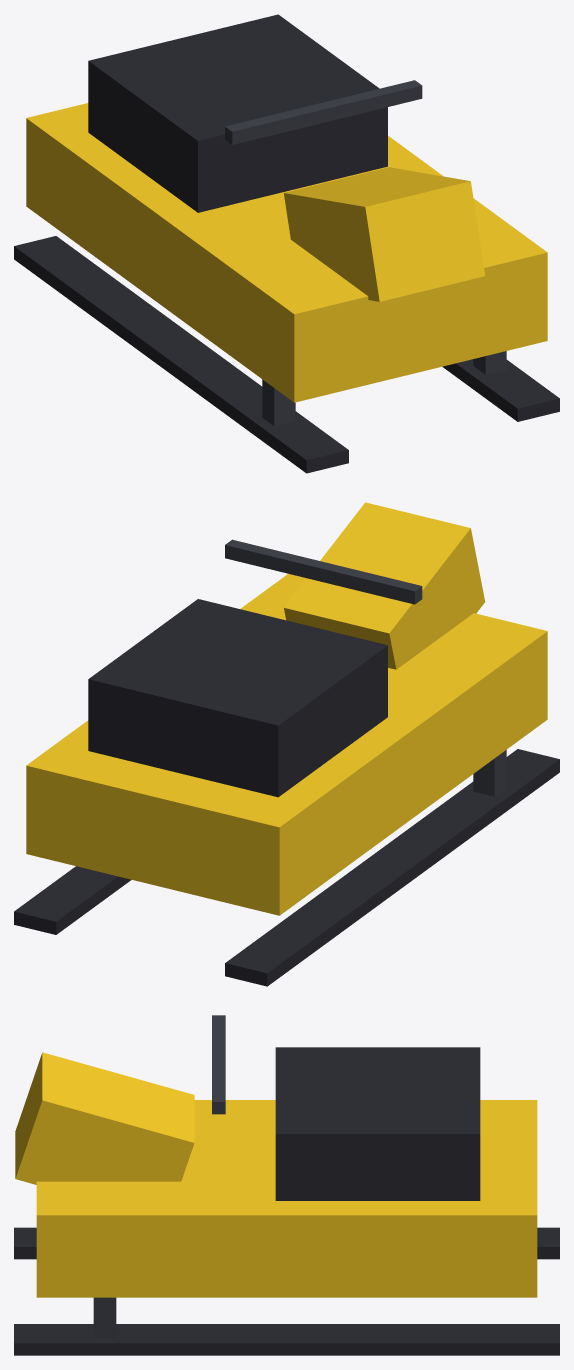
File: snowmobile.glb
3 renders of one model, top to bottom at view 1: azimuth 30°, elevation 25°; view 2: azimuth 150°, elevation 25°; view 3: azimuth 270°, elevation 25°, orthographic. The views are drawn at different scales.
Parts seen in each view (by area): view 1: snowmobile; view 2: snowmobile; view 3: snowmobile.
Part boxes in pixels (x1=…): snowmobile: x1=14, y1=14, x2=559, y2=473; snowmobile: x1=14, y1=502, x2=559, y2=986; snowmobile: x1=14, y1=1015, x2=559, y2=1355.
Bounding box in the file's own units: 1.2 × 1.16 × 2.4.
